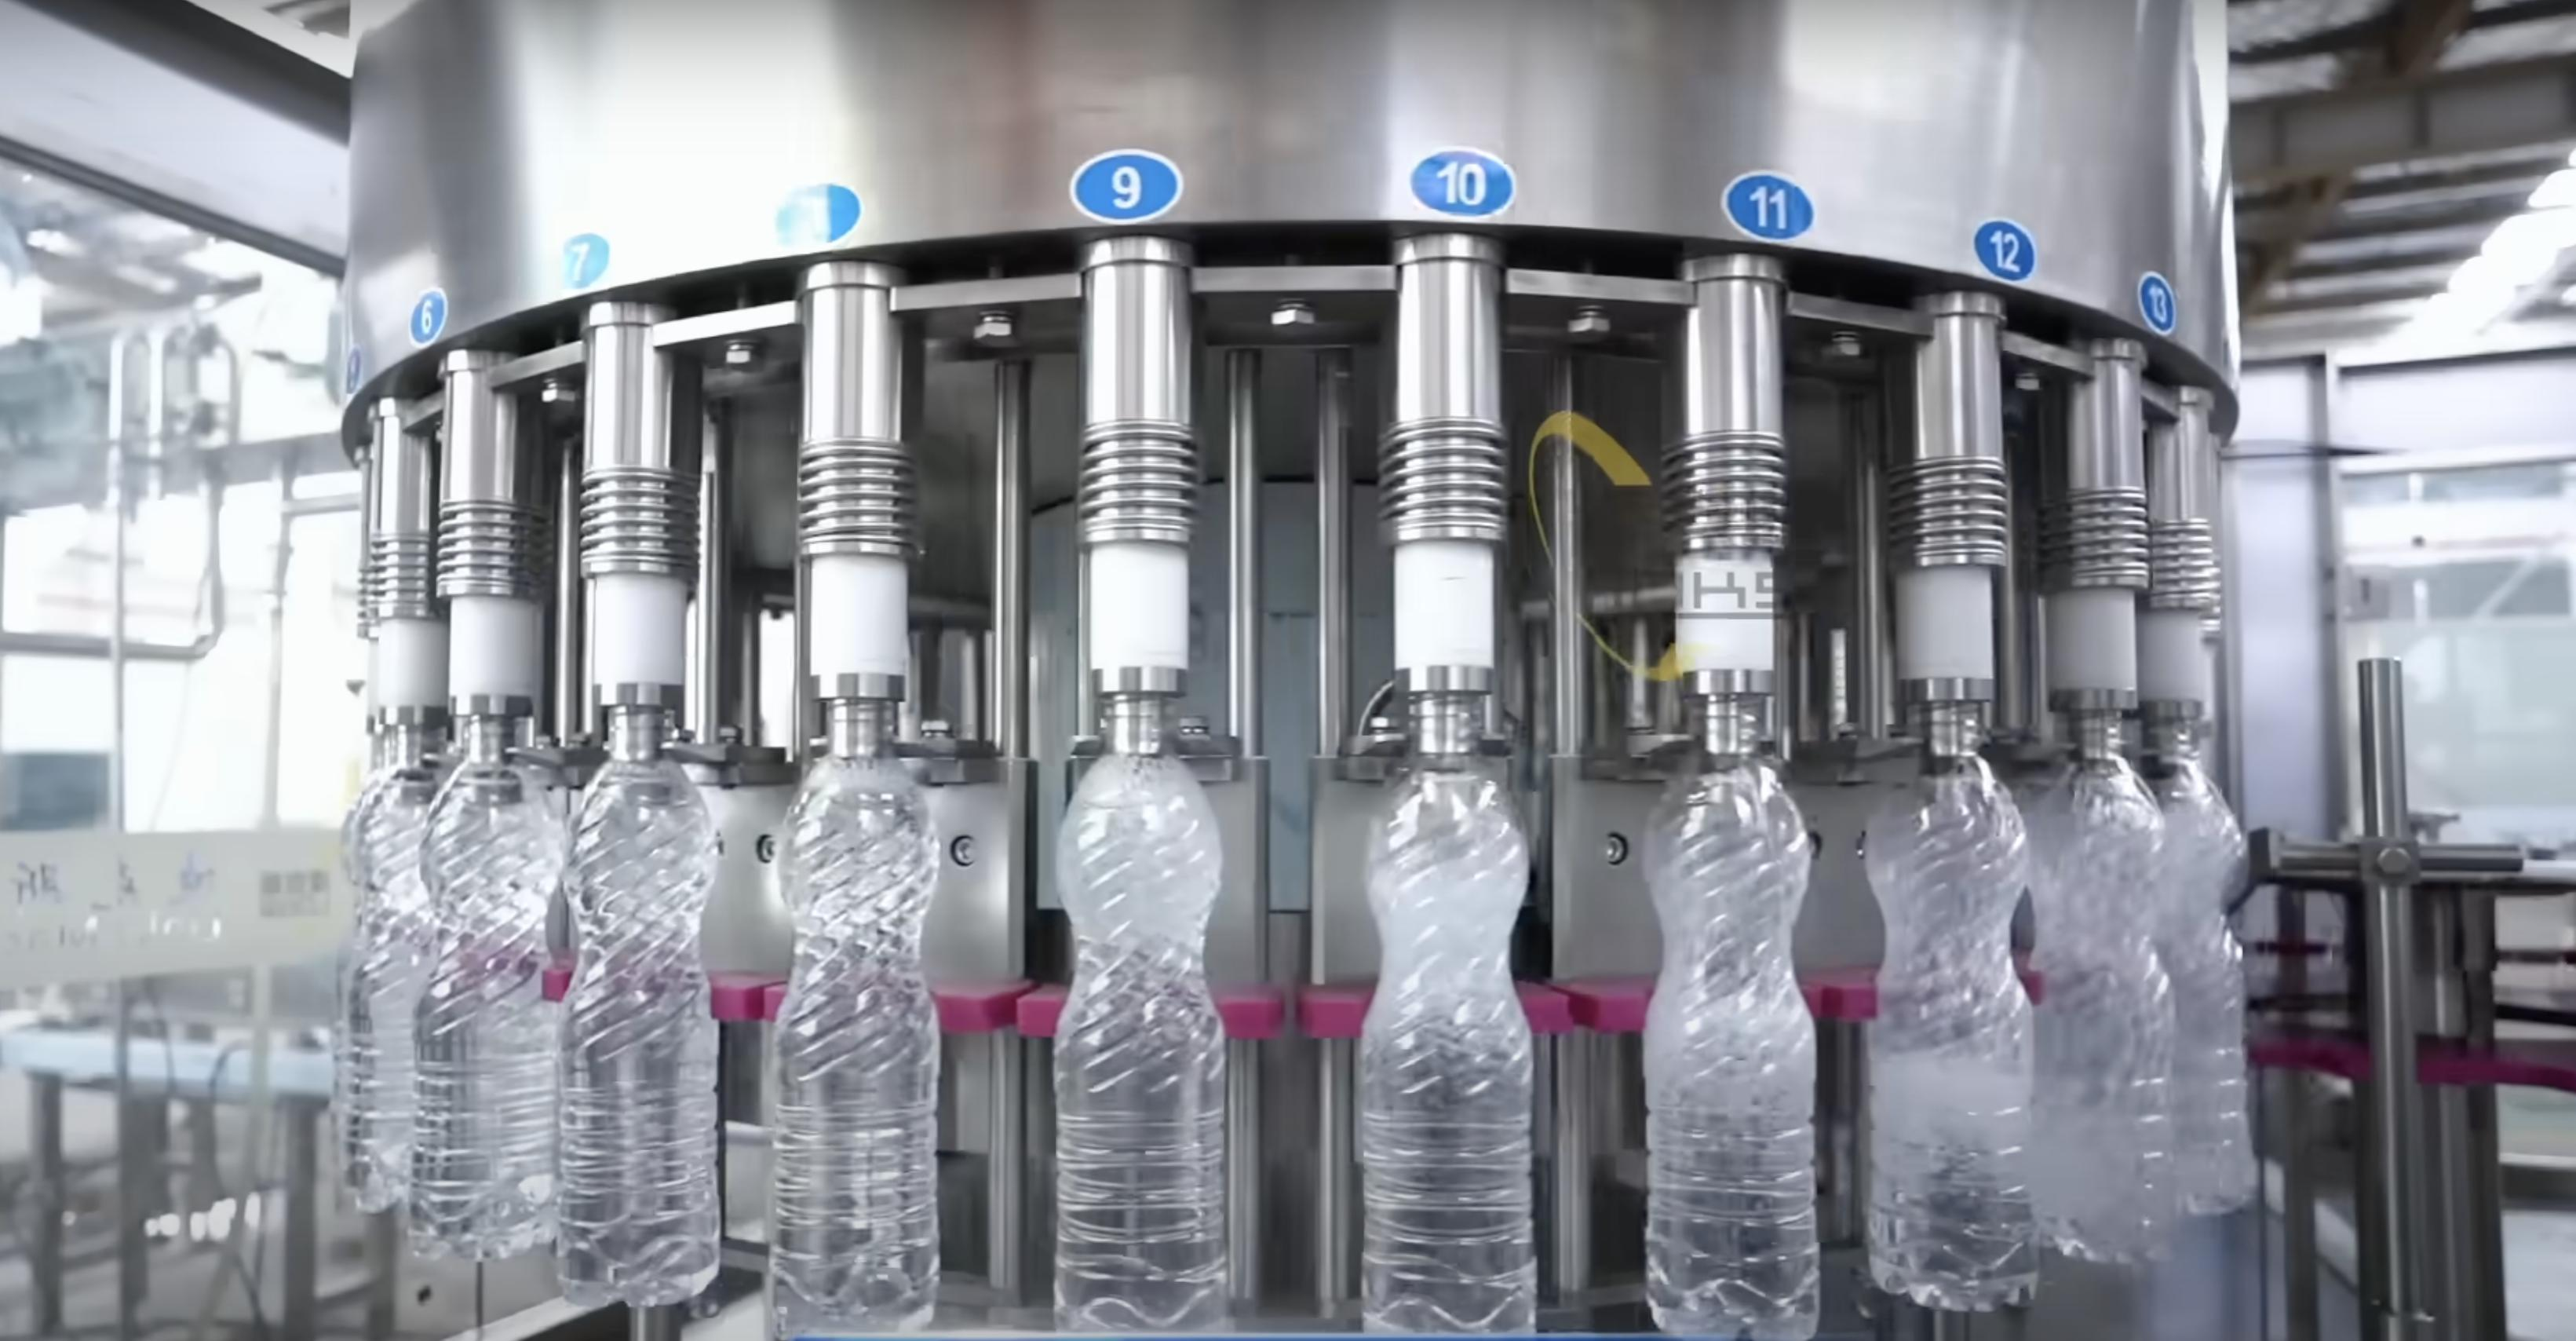bottle: (1353, 746, 1554, 1341), (1058, 741, 1252, 1338), (1647, 738, 1828, 1341), (768, 728, 946, 1331), (1860, 760, 2041, 1312), (569, 738, 722, 1298), (2031, 751, 2181, 1264), (424, 740, 550, 1254)
